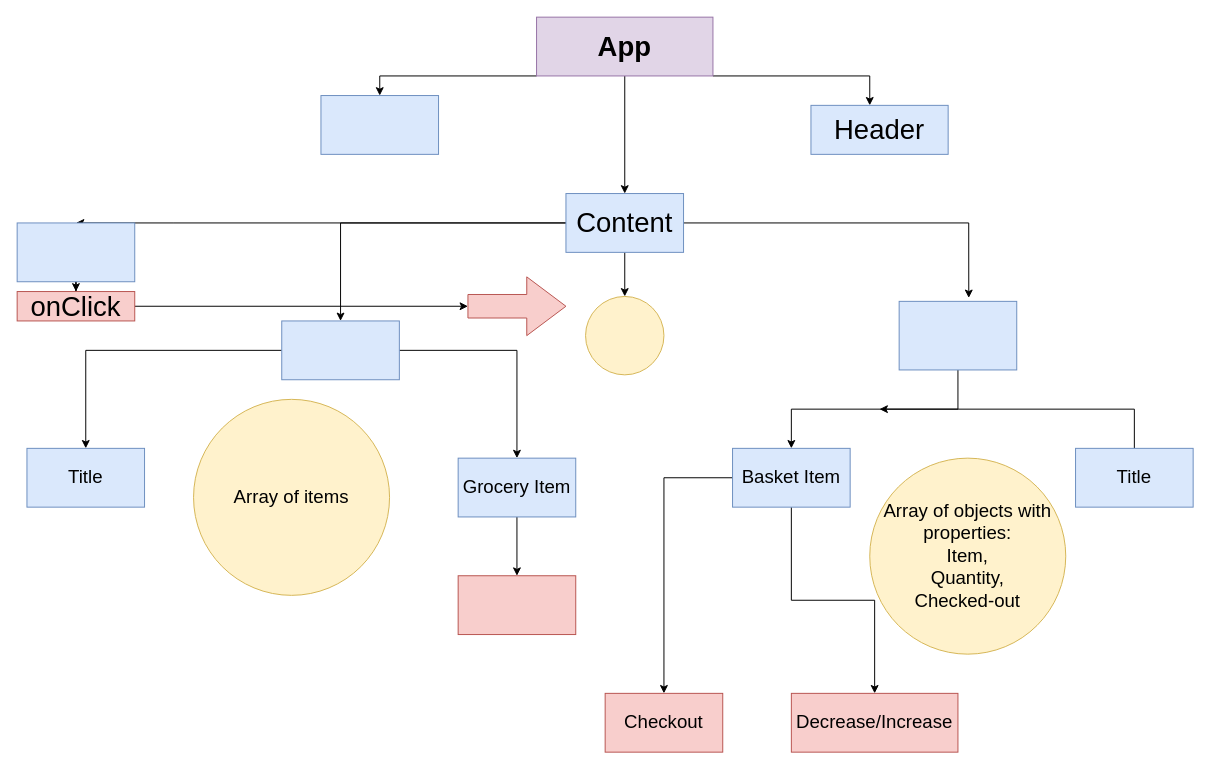
Image size: 1210x769. Some labels were removed from this diagram. The centre of each missing label's shape, as x and y in pixels:
"Add to basket" belongs at pixel 516 605.
"Basket" belongs at pixel 957 335.
"Filter" belongs at pixel 624 335.
"Footer" belongs at pixel 379 124.
"Groceries" belongs at pixel 340 350.
"Search-Bar" belongs at pixel 75 252.
